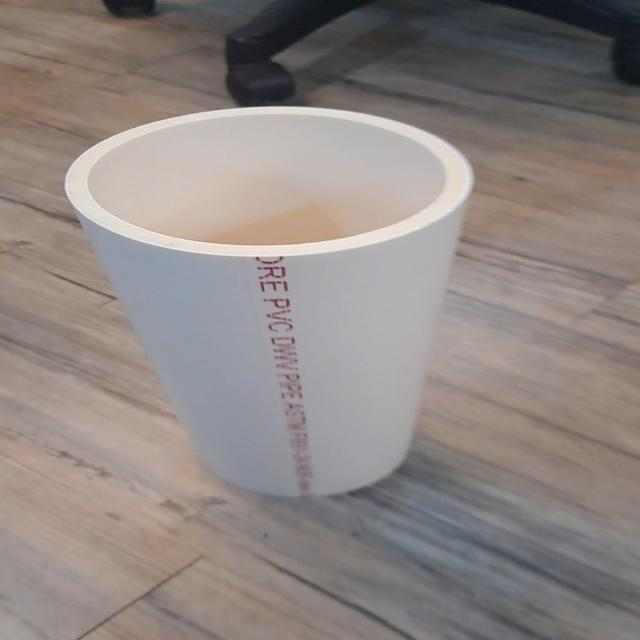CORAL: (24, 94, 570, 521)
